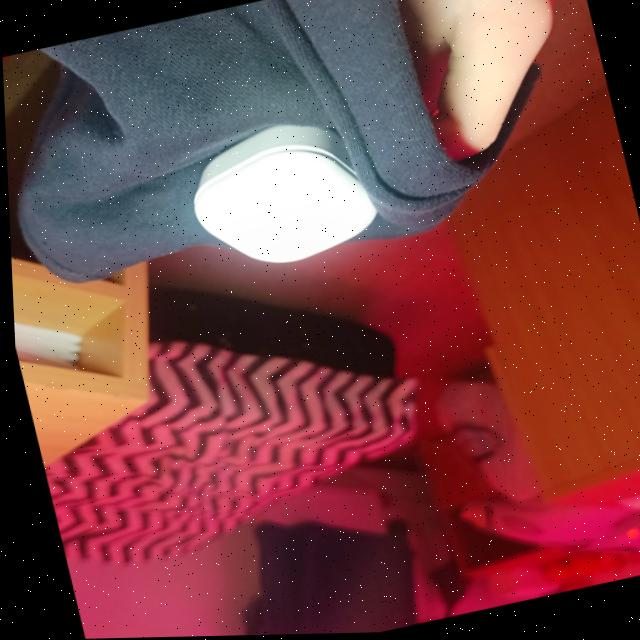headphones: (191, 125, 374, 263)
